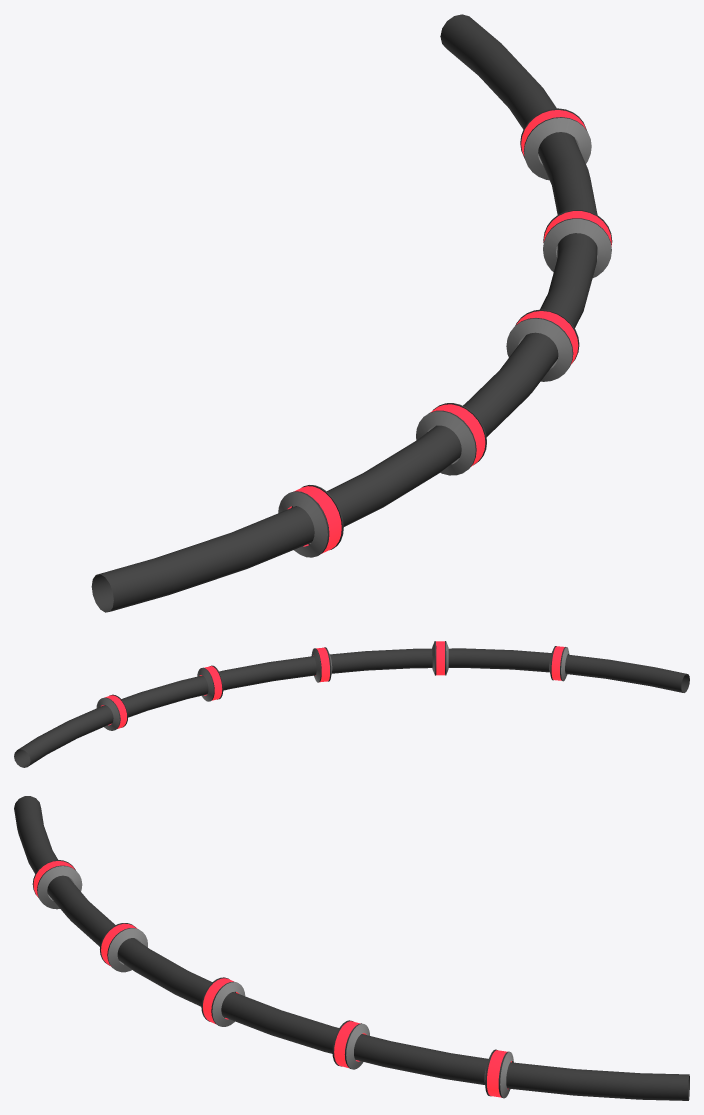
Rendered from Red_Cable_A_rounded_full.fbx.
3 renders of one model, top to bottom at view 1: azimuth 30°, elevation 25°; view 2: azimuth 150°, elevation 25°; view 3: azimuth 270°, elevation 25°, orthographic. The views are drawn at different scales.
Parts seen in each view (by area): view 1: Red_Cable_rounded_full.002; view 2: Red_Cable_rounded_full.002; view 3: Red_Cable_rounded_full.002.
Part boxes in pixels (bbox=[...]): Red_Cable_rounded_full.002: bbox=[91, 14, 612, 612]; Red_Cable_rounded_full.002: bbox=[14, 641, 689, 767]; Red_Cable_rounded_full.002: bbox=[14, 796, 689, 1100].
Size of the model in its own units: 3.78 by 0.2624 by 3.78.
